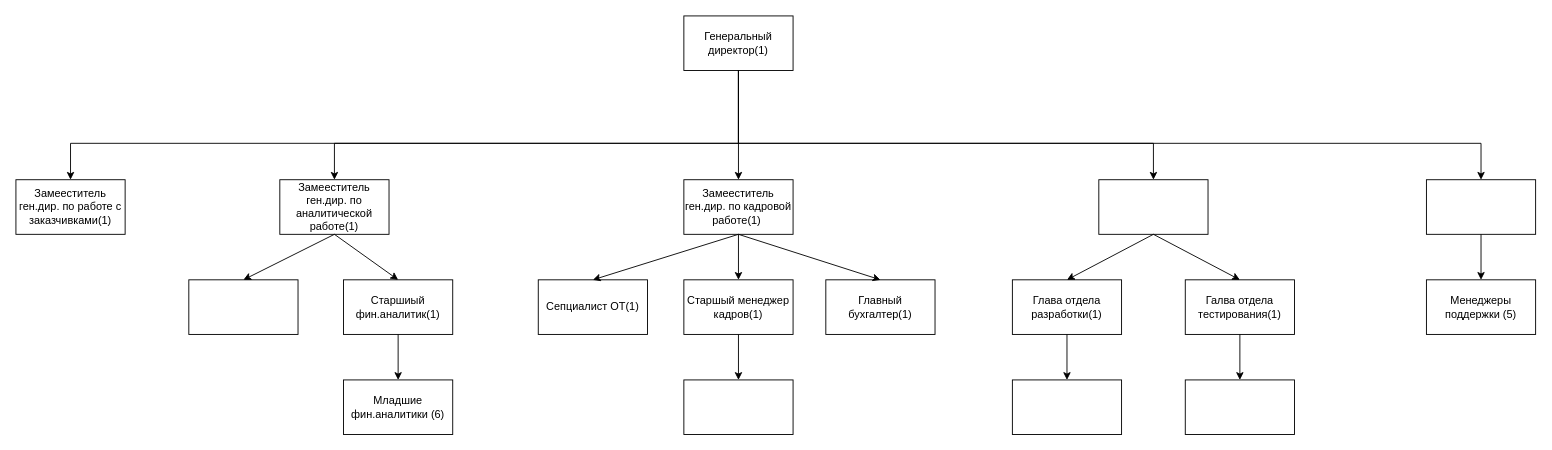
Image size: 1552x450. Some labels were removed from this diagram. Here are the shapes that lost their labels. From the top down, the box of each, then its label:
(1098, 179, 1208, 234): Замееститель ген.дир. по разарботке (1)
(1426, 179, 1536, 234): Замееститель ген.дир. по поддержке
(188, 279, 298, 334): Старший юр. консультант(1)
(683, 379, 793, 435): Кадровыев специалиты (3)
(1011, 379, 1122, 435): Разработчики ПО(6)
(1184, 379, 1294, 435): Тестировщики (3)
